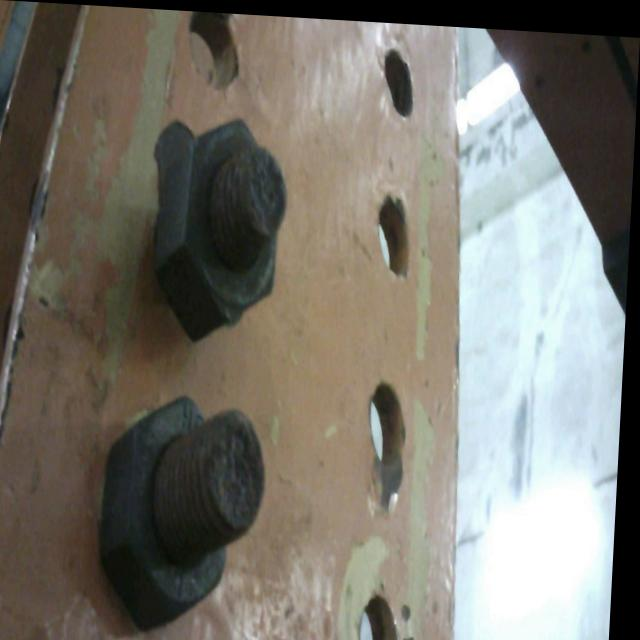Loose bolt: (150, 122, 293, 358)
Missing bolt: (185, 10, 244, 93), (377, 187, 418, 271), (371, 374, 411, 457), (364, 582, 410, 640), (382, 42, 419, 112)
Rusty bolt: (99, 401, 274, 637), (147, 108, 293, 353)
